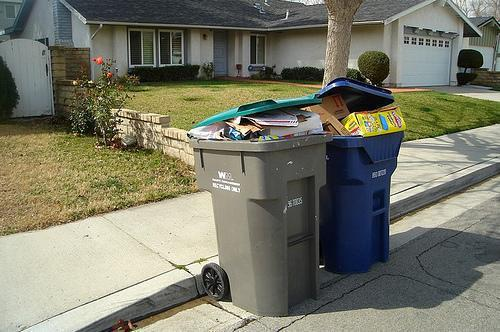Bote de Basura: (202, 97, 326, 317), (292, 76, 393, 275)
